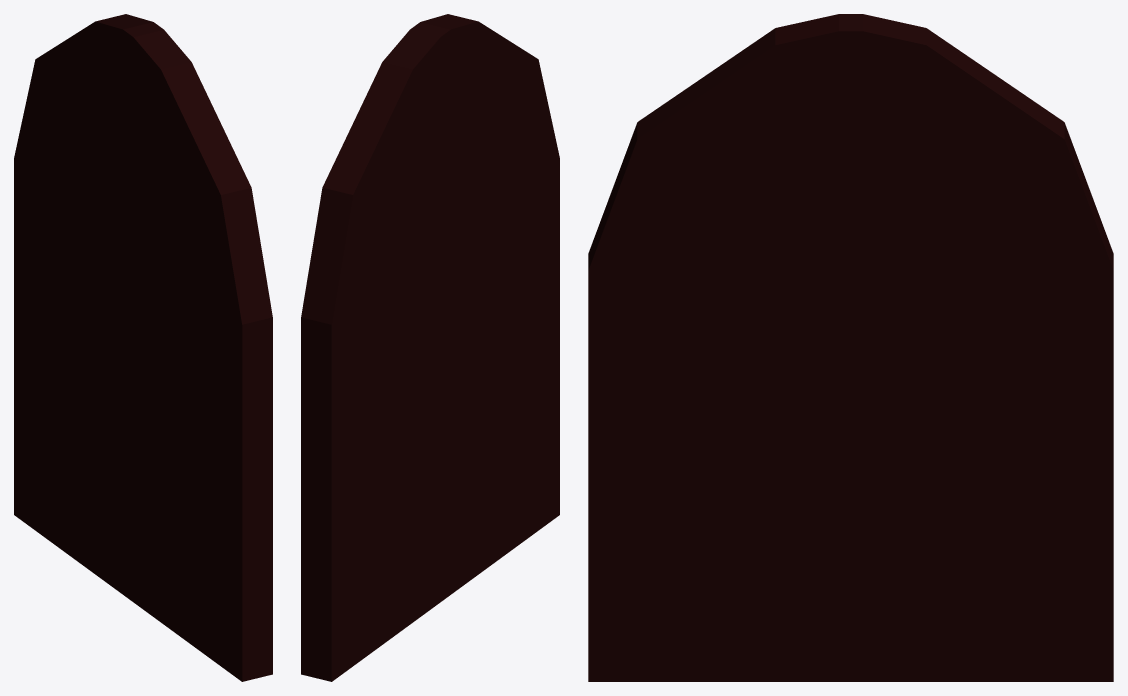
File: door.glb
3 renders of one model, left to right at view 1: azimuth 30°, elevation 25°; view 2: azimuth 150°, elevation 25°; view 3: azimuth 270°, elevation 25°, orthographic. The views are drawn at different scales.
Parts seen in each view (by area): view 1: Cube; view 2: Cube; view 3: Cube.
Boxes of the visible parts, x1=… form: Cube: x1=14, y1=14, x2=272, y2=681; Cube: x1=301, y1=14, x2=559, y2=681; Cube: x1=588, y1=14, x2=1113, y2=681.
Size of the model in its own units: 0.7081 by 12.45 by 9.11.
1 material, 1 textured.
